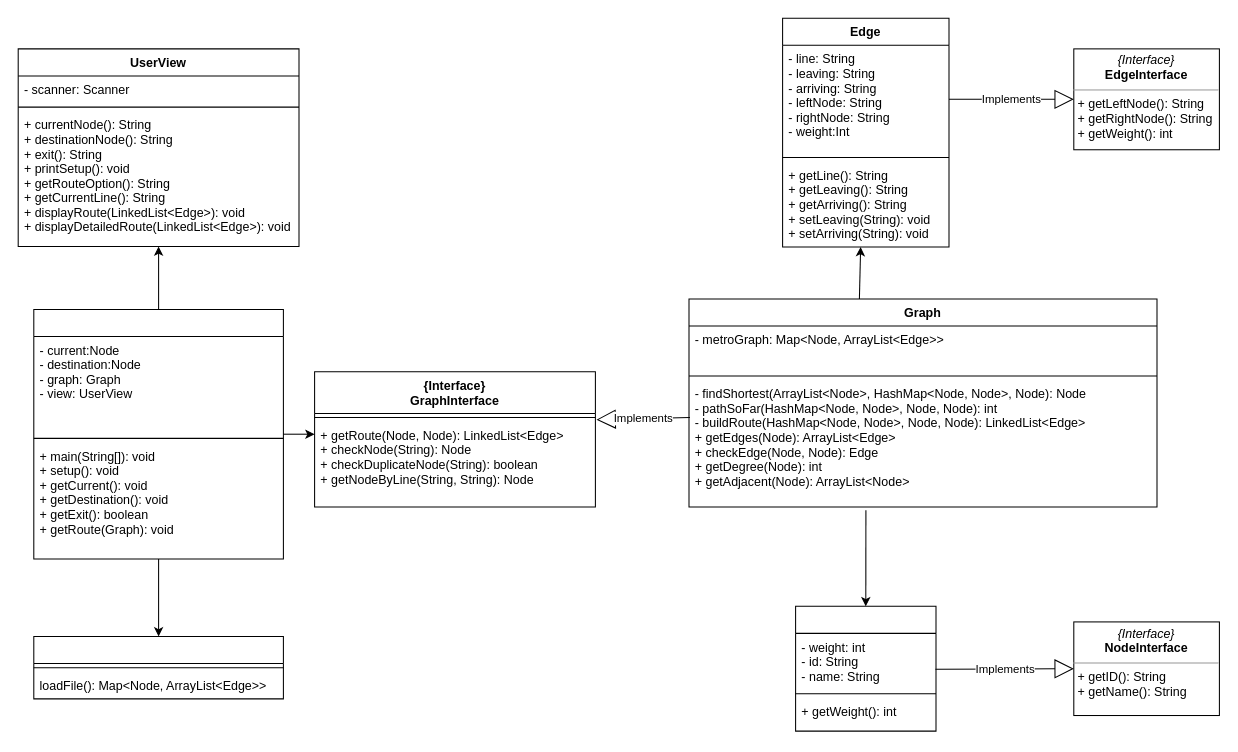
This 1238x752 diagram has some shape labels left out. Each missing label, with the box of its shape:
Controller (Main): (33, 308, 283, 559)
Node: (795, 605, 936, 731)
Parser: (33, 635, 283, 699)
